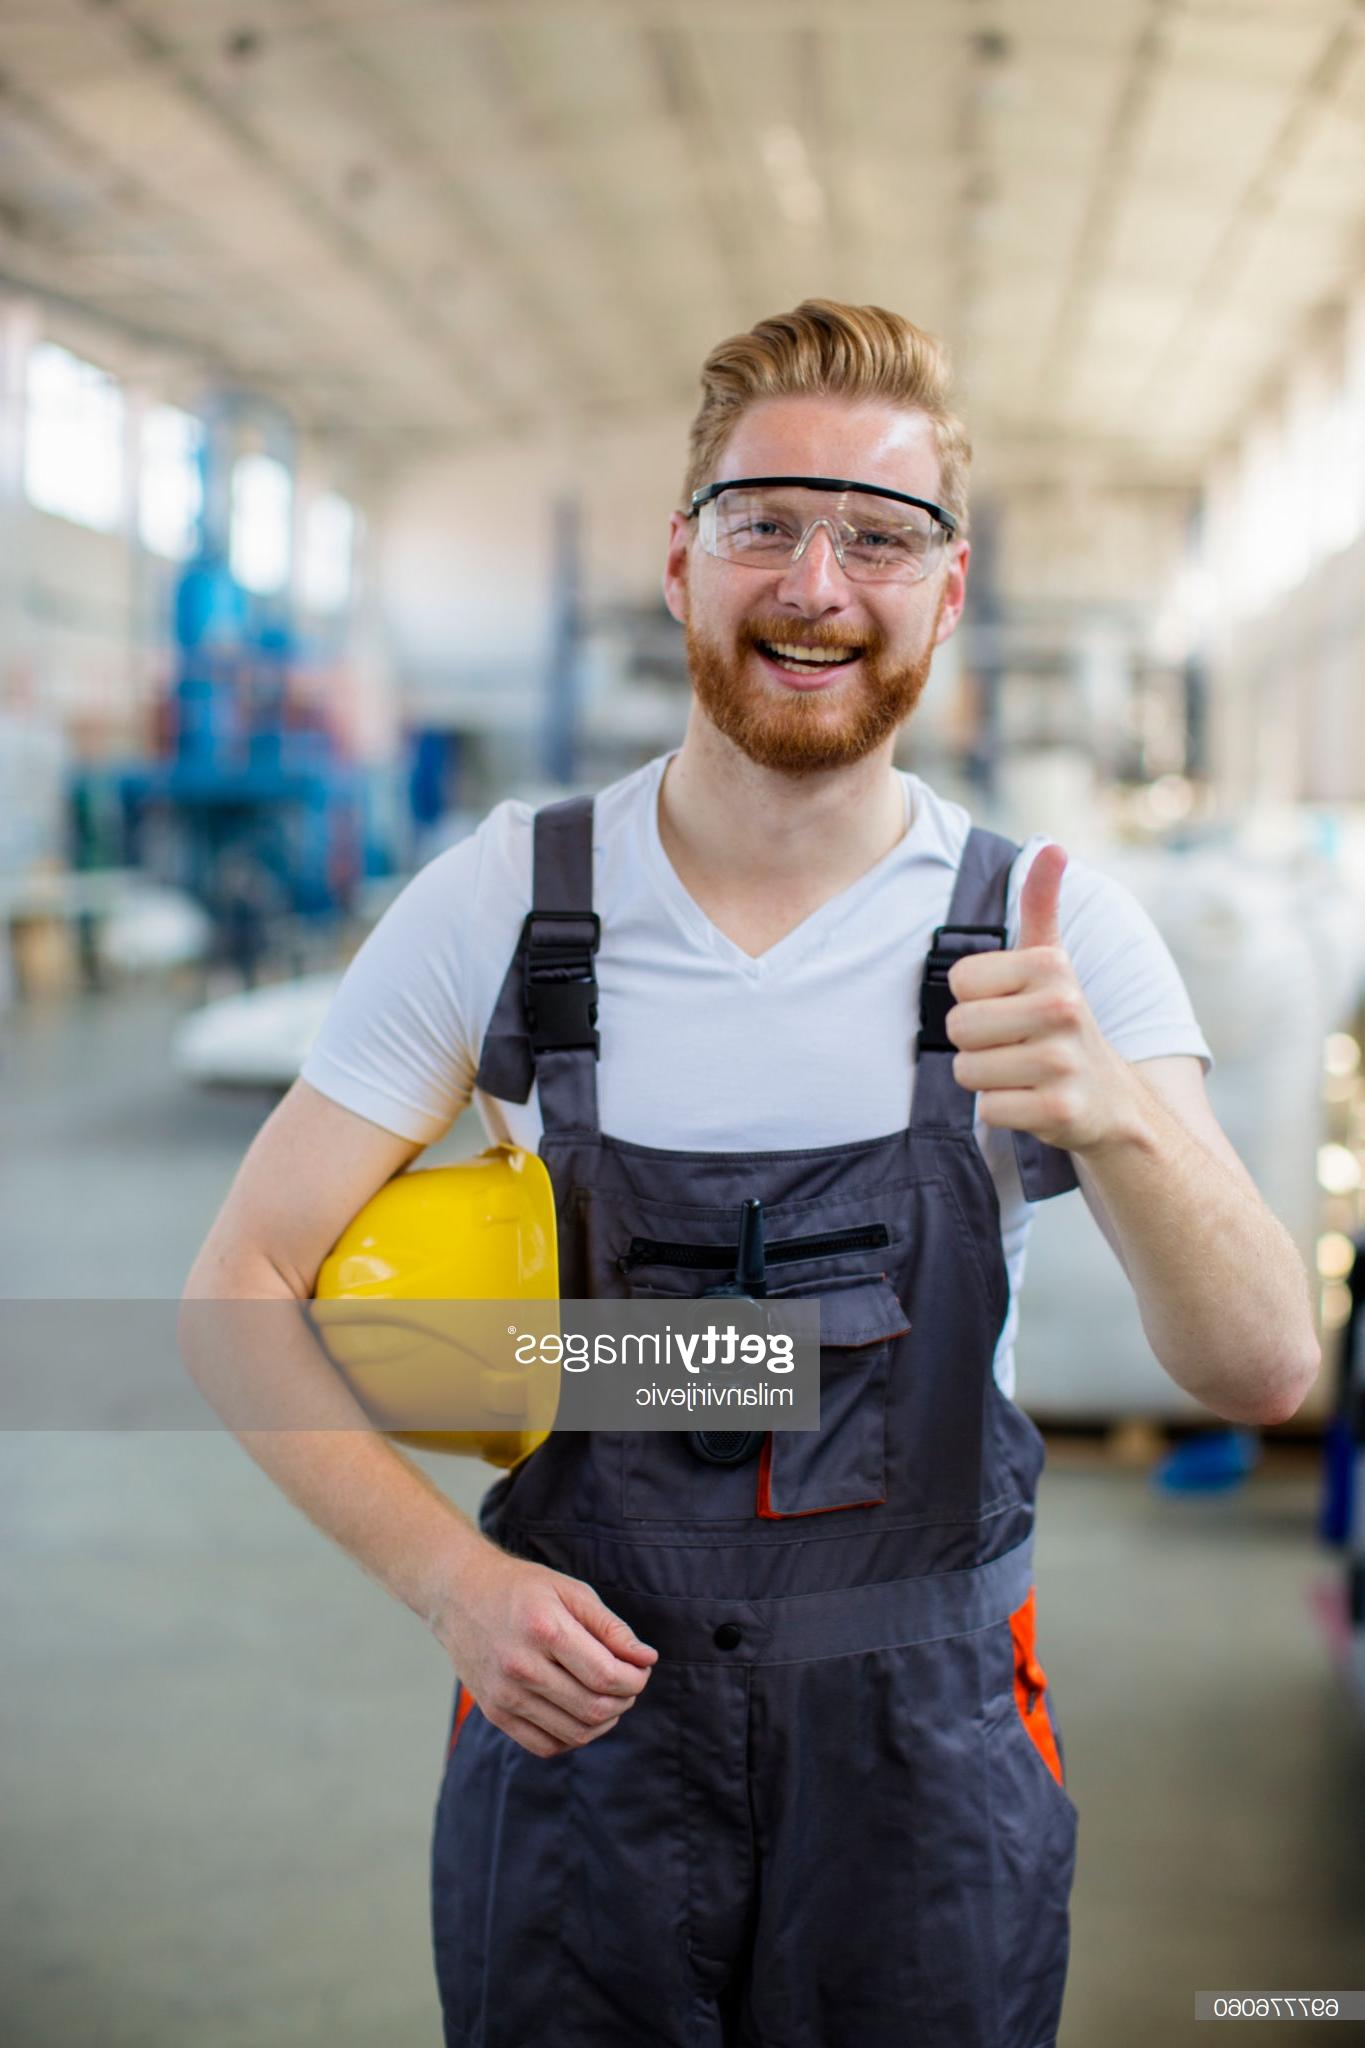thumbsup: (945, 844, 1085, 1133)
